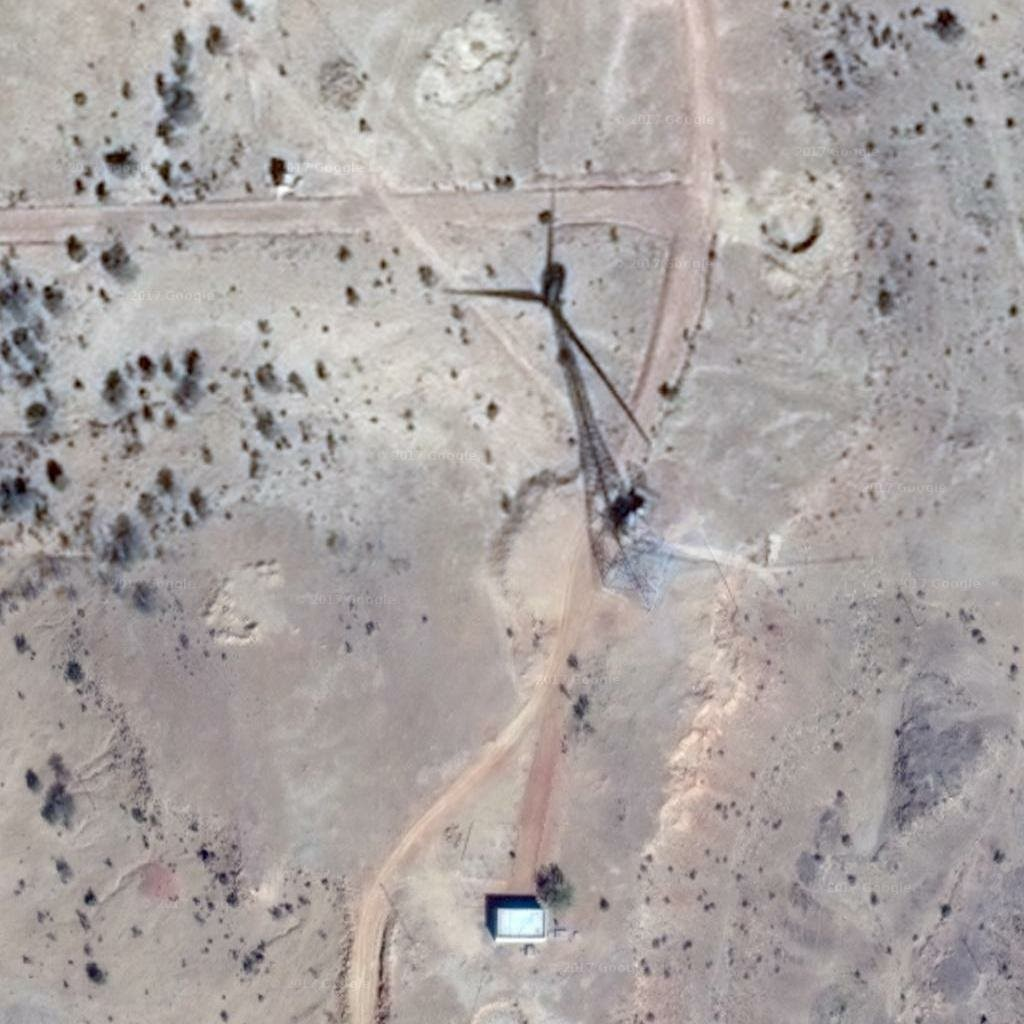Windmill: (426, 193, 685, 542)
